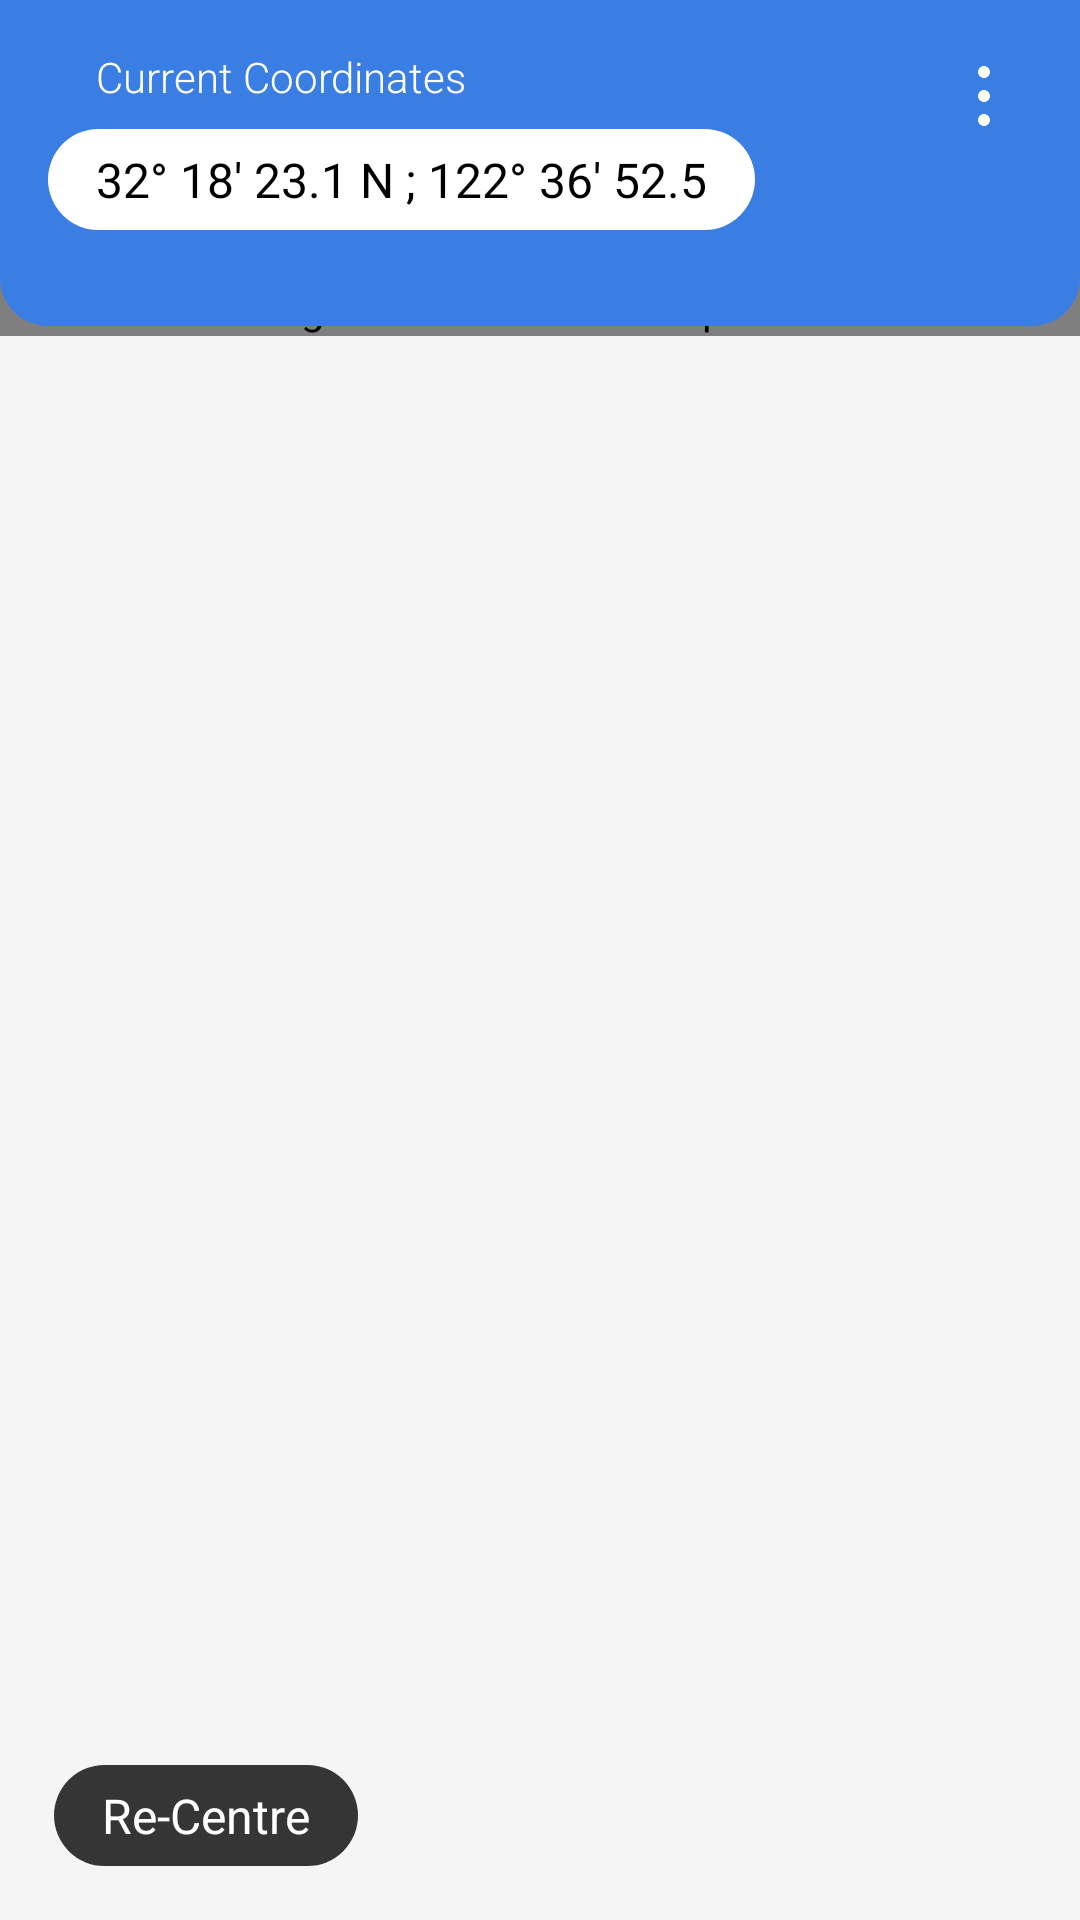

Icons on this 1080 × 1920 Android screen, each with its box as (x1, y1, x2, y2):
overflow menu vertical: (978, 66, 990, 126)
